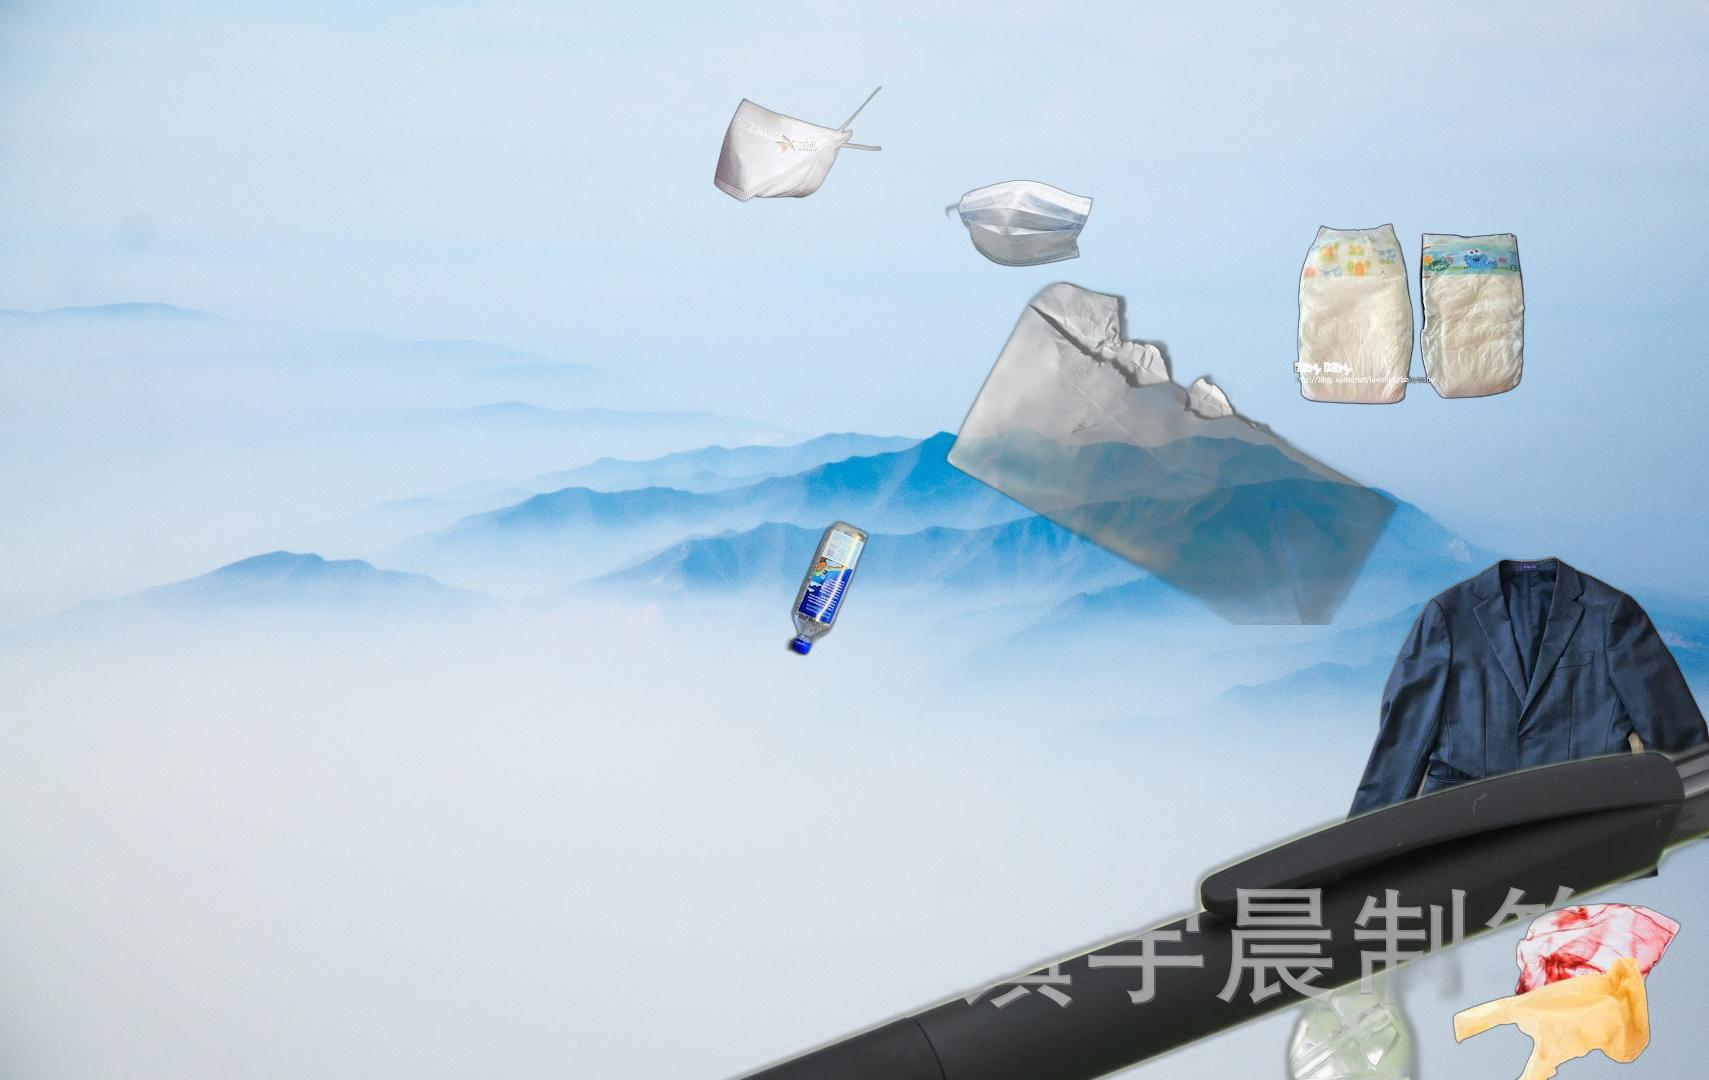clothes: (1339, 553, 1709, 892)
paper: (906, 276, 1405, 625)
penholder: (315, 715, 1709, 1080)
plastic-bag: (1450, 900, 1683, 1080)
plastic-bottles: (723, 213, 1089, 896)
trash: (1284, 216, 1528, 410), (711, 83, 884, 204), (943, 178, 1095, 269)
